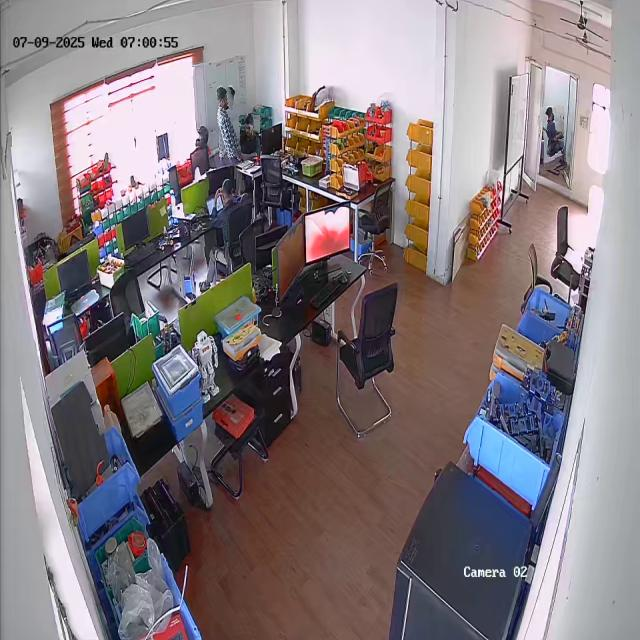person: (198, 179, 255, 258), (209, 84, 244, 167), (542, 106, 566, 170), (240, 115, 261, 156)
